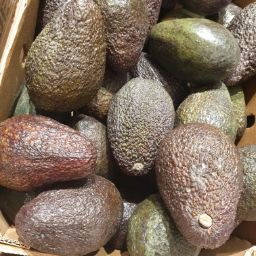Avocado: (14, 9, 252, 250), (152, 117, 249, 249), (7, 173, 127, 256), (32, 2, 113, 122), (142, 11, 249, 88), (1, 111, 108, 185), (108, 180, 209, 256), (107, 78, 178, 183), (179, 71, 248, 152), (217, 137, 256, 233), (101, 3, 153, 70), (220, 2, 256, 93)
